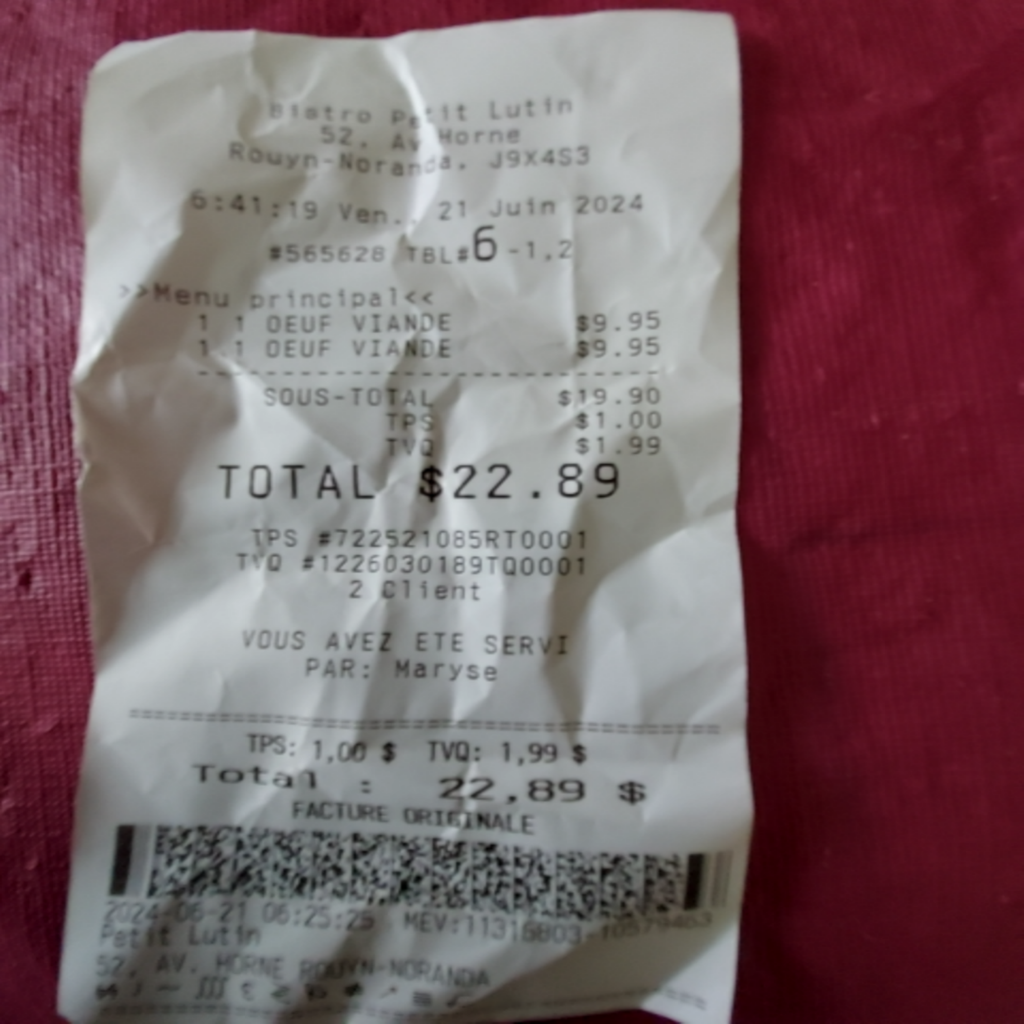recipt: (55, 6, 749, 1024)
